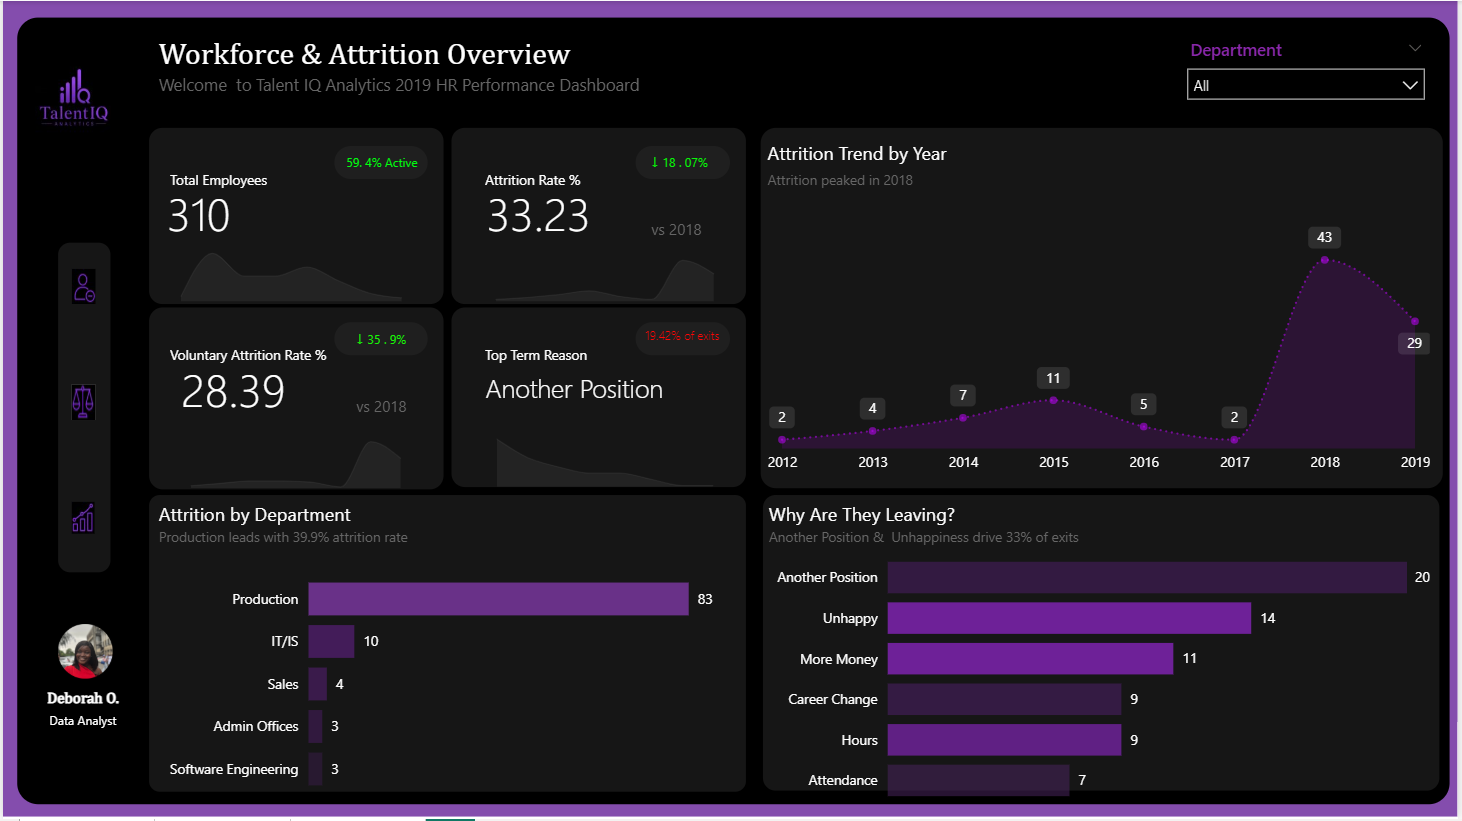

What the dashboard file says about the page in this screenshot:
{"tool":"powerbi","page":{"name":"Dashboard 1","canvas":[1280,720],"ordinal":0},"visuals":[{"type":"card","fields":{"Values":["hr_employees_cleaned.Total Employees"]},"box":[131.7,159.2,81,54.9],"z":0},{"type":"textbox","box":[141.3,142.7,141.3,28.8],"z":1000},{"type":"textbox","box":[296.4,126.2,87.8,32.9],"z":2000},{"type":"areaChart","fields":{"Category":["hr_employees_cleaned.dateofhire.Variation.Date Hierarchy.Year"],"Y":["hr_employees_cleaned.Total Employees"]},"box":[141.7,200,223.8,70.2],"z":3000},{"type":"card","fields":{"Values":["hr_employees_cleaned.Attrition Rate %"]},"box":[408.9,152.3,124.9,67.2],"z":4000},{"type":"textbox","box":[418.5,142.7,167.4,28.8],"z":5000},{"type":"textbox","box":[565.5,126.2,75,32.1],"z":6000},{"type":"textbox","box":[565.4,186.6,85.1,27.4],"z":7000},{"type":"areaChart","fields":{"Category":["hr_employees_cleaned.dateoftermination.Variation.Date Hierarchy.Year"],"Y":["hr_employees_cleaned.Total Terminated"]},"box":[419,200,221.4,70.2],"z":8000},{"type":"card","fields":{"Values":["hr_employees_cleaned.Voluntary Attrition Rate %"]},"box":[141.3,311.5,122.1,60.4],"z":9000},{"type":"textbox","box":[141.3,296.4,242.9,30.2],"z":10000},{"type":"textbox","box":[306,282.7,59,27.4],"z":11000},{"type":"textbox","box":[306,341.7,78.2,30.2],"z":12000},{"type":"areaChart","fields":{"Category":["hr_employees_cleaned.dateoftermination.Variation.Date Hierarchy.Year"],"Y":["hr_employees_cleaned.Voluntary Terminated"]},"box":[151.2,372.6,214.3,61.9],"z":13000},{"type":"card","fields":{"Values":["hr_employees_cleaned.Top Term Reason"]},"box":[418.5,326.6,167.4,30.2],"z":14000},{"type":"textbox","box":[419,296.4,123.8,29.8],"z":15000},{"type":"card","fields":{"Values":["hr_employees_cleaned.Top Term Reason %"]},"box":[555.7,282.7,85.1,28.8],"z":16000},{"type":"areaChart","fields":{"Category":["hr_employees_cleaned.termreason"],"Y":["hr_employees_cleaned.Total Terminated"]},"box":[419,371.4,221.4,60.7],"z":17000},{"type":"areaChart","fields":{"Category":["hr_employees_cleaned.dateoftermination.Variation.Date Hierarchy.Year"],"Y":["hr_employees_cleaned.Total Terminated"]},"box":[667.9,186.9,592.9,236.9],"z":18000},{"type":"textbox","box":[667.9,117.9,296.4,34.5],"z":19000},{"type":"textbox","box":[667.9,142.9,327.4,28.6],"z":20000},{"type":"clusteredBarChart","fields":{"Category":["hr_employees_cleaned.termreason"],"Y":["hr_employees_cleaned.Total Terminated"]},"box":[667.9,466.7,592.9,253.6],"z":21000},{"type":"textbox","box":[668.3,435,612,57.6],"z":22000},{"type":"clusteredBarChart","fields":{"Category":["hr_employees_cleaned.department"],"Y":["hr_employees_cleaned.Total Terminated"]},"box":[132.1,483.3,500,227.4],"z":23000},{"type":"textbox","box":[131.7,435,509.1,64.5],"z":24000},{"type":"slicer","fields":{"Values":["hr_employees_cleaned.department"]},"box":[1031.9,27.4,229.2,75.5],"z":25000},{"type":"textbox","box":[132.1,27.4,832.1,90.5],"z":26000},{"type":"actionButton","box":[60.7,235.7,23.8,34.5],"z":27000},{"type":"actionButton","box":[60.7,341.7,23.8,29.8],"z":28000},{"type":"image","box":[48.8,546.4,47.6,51.2],"z":28001},{"type":"textbox","box":[21.4,597.6,98.8,48.8],"z":28002}]}

Visuals, with their boxes in screenshot pixels (x1, y1, x2, y2), scaled from the page's 1280x720 canvas onto the 1462x821 screenshot:
card - hr_employees_cleaned.Total Employees: l=150, t=182, r=243, b=244
textbox: l=161, t=163, r=323, b=196
textbox: l=339, t=144, r=439, b=181
areaChart - hr_employees_cleaned.dateofhire.Variation.Date Hierarchy.Year x hr_employees_cleaned.Total Employees: l=162, t=228, r=417, b=308
card - hr_employees_cleaned.Attrition Rate %: l=467, t=174, r=610, b=250
textbox: l=478, t=163, r=669, b=196
textbox: l=646, t=144, r=732, b=181
textbox: l=646, t=213, r=743, b=244
areaChart - hr_employees_cleaned.dateoftermination.Variation.Date Hierarchy.Year x hr_employees_cleaned.Total Terminated: l=479, t=228, r=731, b=308
card - hr_employees_cleaned.Voluntary Attrition Rate %: l=161, t=355, r=301, b=424
textbox: l=161, t=338, r=439, b=372
textbox: l=350, t=322, r=417, b=354
textbox: l=350, t=390, r=439, b=424
areaChart - hr_employees_cleaned.dateoftermination.Variation.Date Hierarchy.Year x hr_employees_cleaned.Voluntary Terminated: l=173, t=425, r=417, b=495
card - hr_employees_cleaned.Top Term Reason: l=478, t=372, r=669, b=407
textbox: l=479, t=338, r=620, b=372
card - hr_employees_cleaned.Top Term Reason %: l=635, t=322, r=732, b=355
areaChart - hr_employees_cleaned.termreason x hr_employees_cleaned.Total Terminated: l=479, t=423, r=731, b=493
areaChart - hr_employees_cleaned.dateoftermination.Variation.Date Hierarchy.Year x hr_employees_cleaned.Total Terminated: l=763, t=213, r=1440, b=483
textbox: l=763, t=134, r=1101, b=174
textbox: l=763, t=163, r=1137, b=196
clusteredBarChart - hr_employees_cleaned.termreason x hr_employees_cleaned.Total Terminated: l=763, t=532, r=1440, b=820
textbox: l=763, t=496, r=1461, b=562
clusteredBarChart - hr_employees_cleaned.department x hr_employees_cleaned.Total Terminated: l=151, t=551, r=722, b=810
textbox: l=150, t=496, r=732, b=570
slicer - hr_employees_cleaned.department: l=1179, t=31, r=1440, b=117
textbox: l=151, t=31, r=1101, b=134
actionButton: l=69, t=269, r=97, b=308
actionButton: l=69, t=390, r=97, b=424
image: l=56, t=623, r=110, b=681
textbox: l=24, t=681, r=137, b=737
